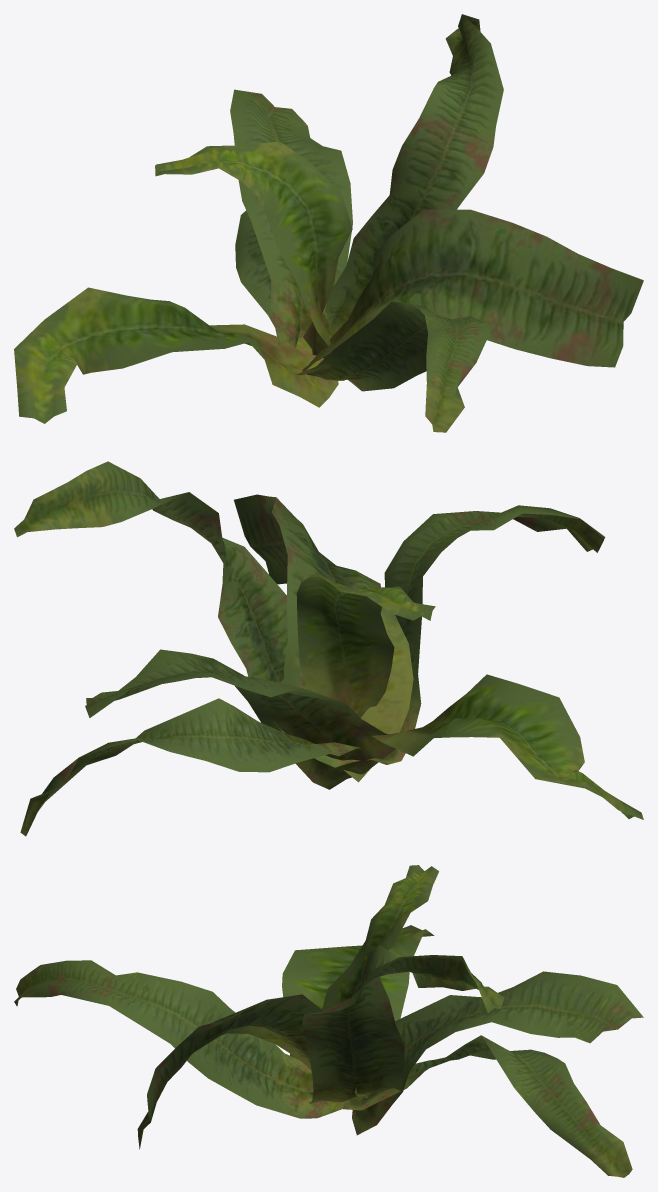
File: fern_02_a.glb
3 views of the same model, one above another, from view 1: azimuth 30°, elevation 25°; view 2: azimuth 150°, elevation 25°; view 3: azimuth 270°, elevation 25° (orthographic). The views are drawn at different scales.
Parts seen in each view (by area): view 1: fern_02_a; view 2: fern_02_a; view 3: fern_02_a.
Boxes of the visible parts, x1=… form: fern_02_a: x1=14, y1=14, x2=643, y2=432; fern_02_a: x1=14, y1=461, x2=643, y2=836; fern_02_a: x1=14, y1=865, x2=643, y2=1177.
Bounding box in the file's own units: 0.5519 × 0.2868 × 0.6134.
Materials: 1 (1 with a texture image).
